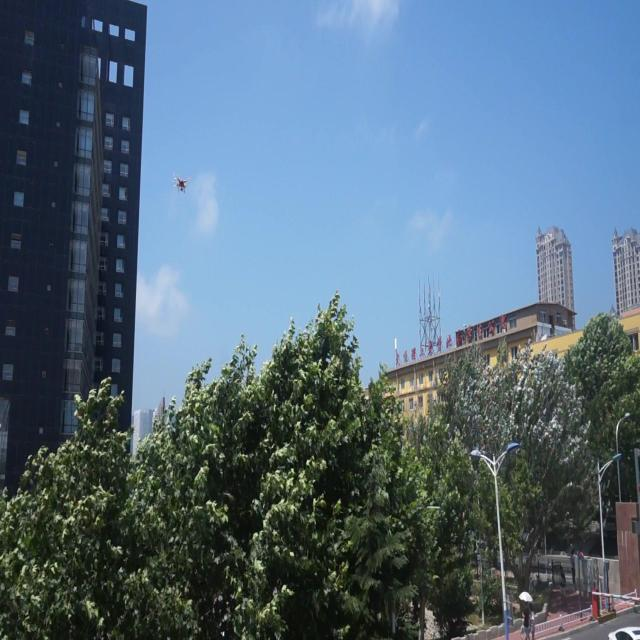drone: (172, 169, 190, 198)
